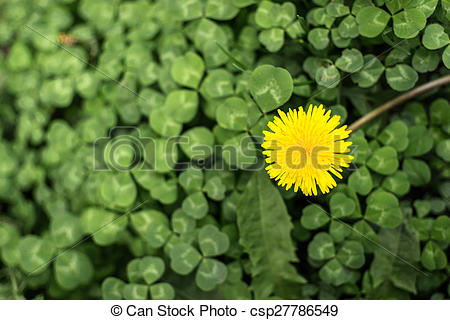dandelion: (259, 107, 361, 202)
